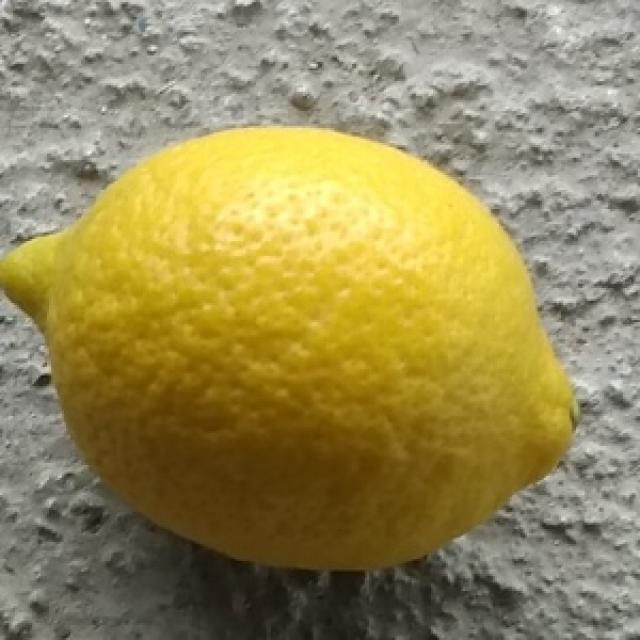Ripe: (0, 121, 583, 572)
